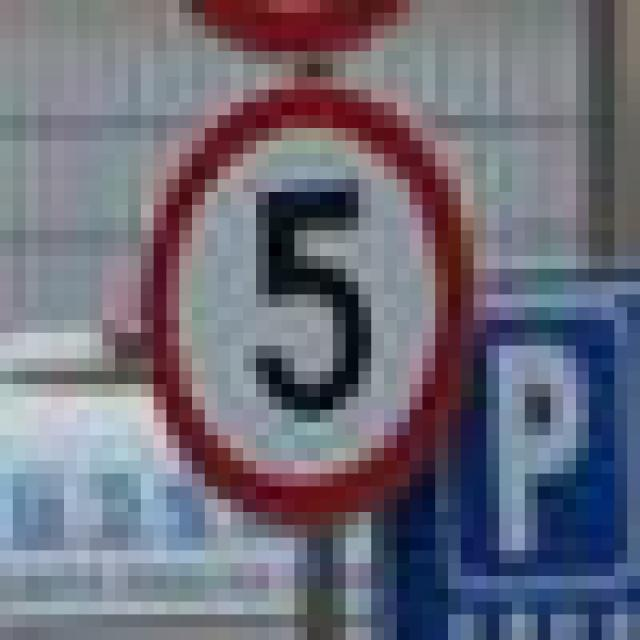speed_limit_20: (128, 77, 474, 525)
